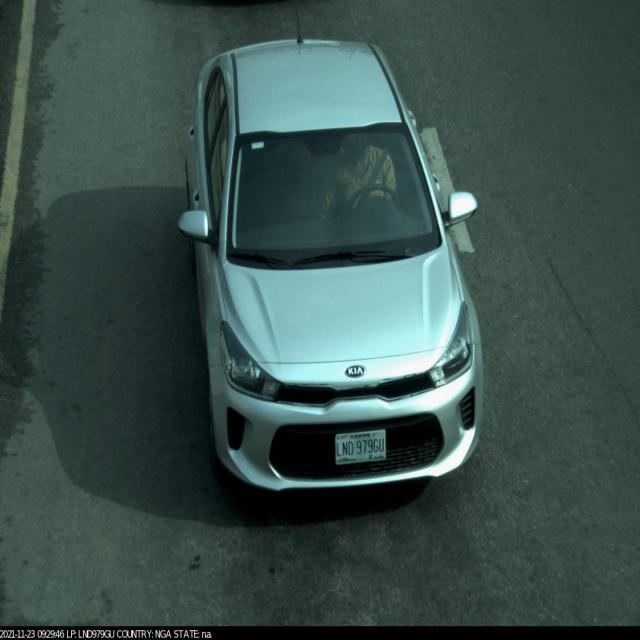windshield: (211, 118, 459, 280)
